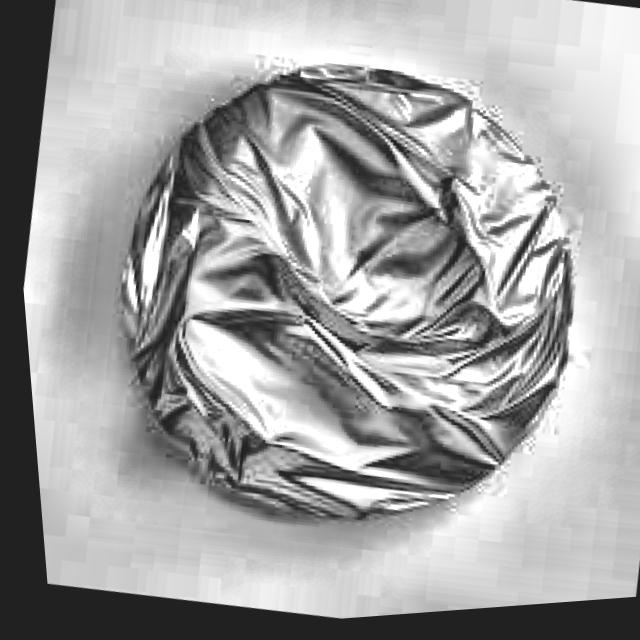Foil: (48, 7, 631, 580)
